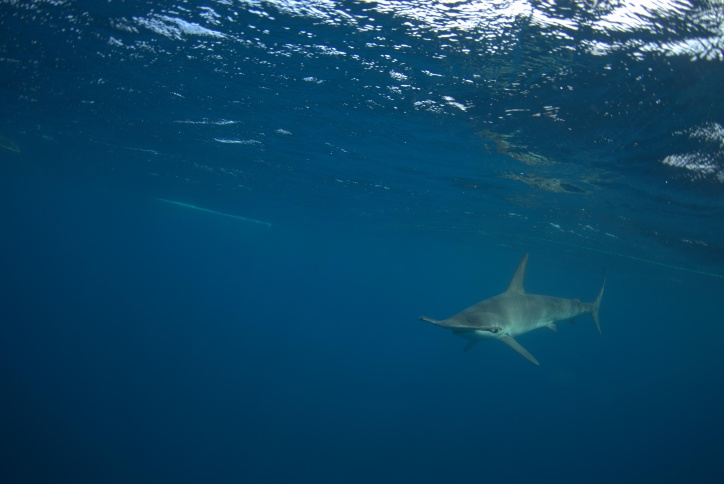Hammer: (405, 239, 632, 401)
